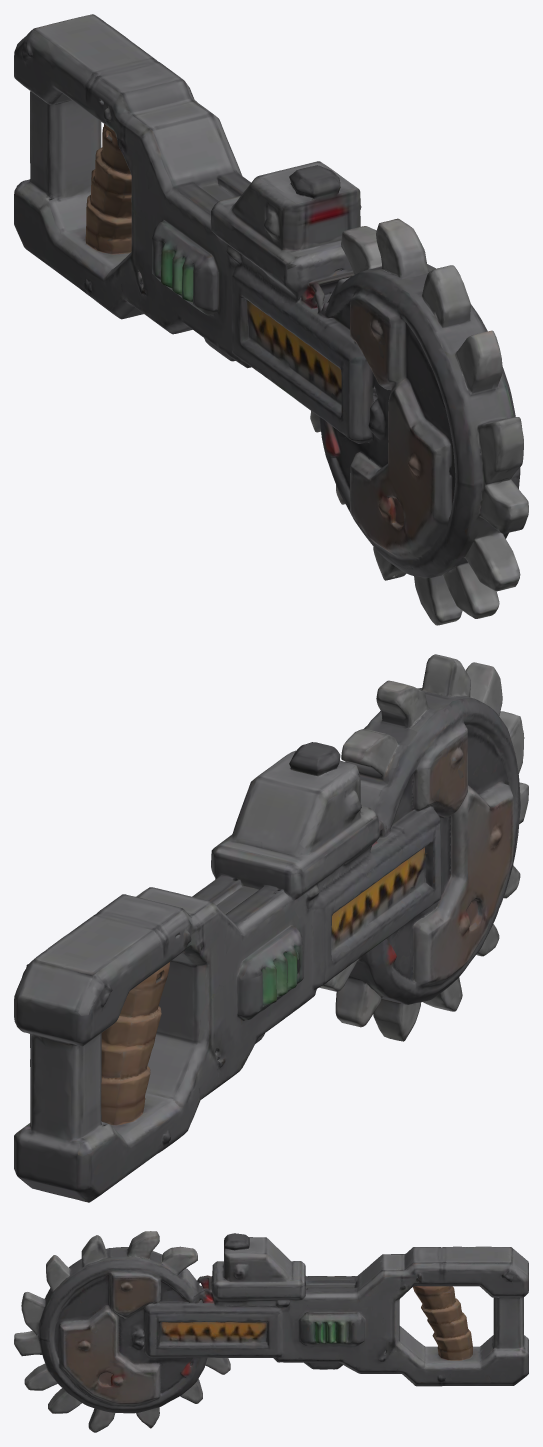
The model's file is CSAWA0_2026-08-07T003844.479.glb.
The picture shows the model from 3 angles, top to bottom: view 1: azimuth 30°, elevation 25°; view 2: azimuth 150°, elevation 25°; view 3: azimuth 270°, elevation 25°; orthographic projection. The views are drawn at different scales.
Visible parts, largest first — view 1: world; view 2: world; view 3: world.
Part boxes in pixels (box(x1,y1,x2,y2)): world: box(14, 14, 528, 625); world: box(14, 654, 528, 1202); world: box(14, 1231, 528, 1432).
Size of the model in its own units: 0.1412 by 0.4211 by 0.9994.
Materials: 1 (1 with a texture image).
